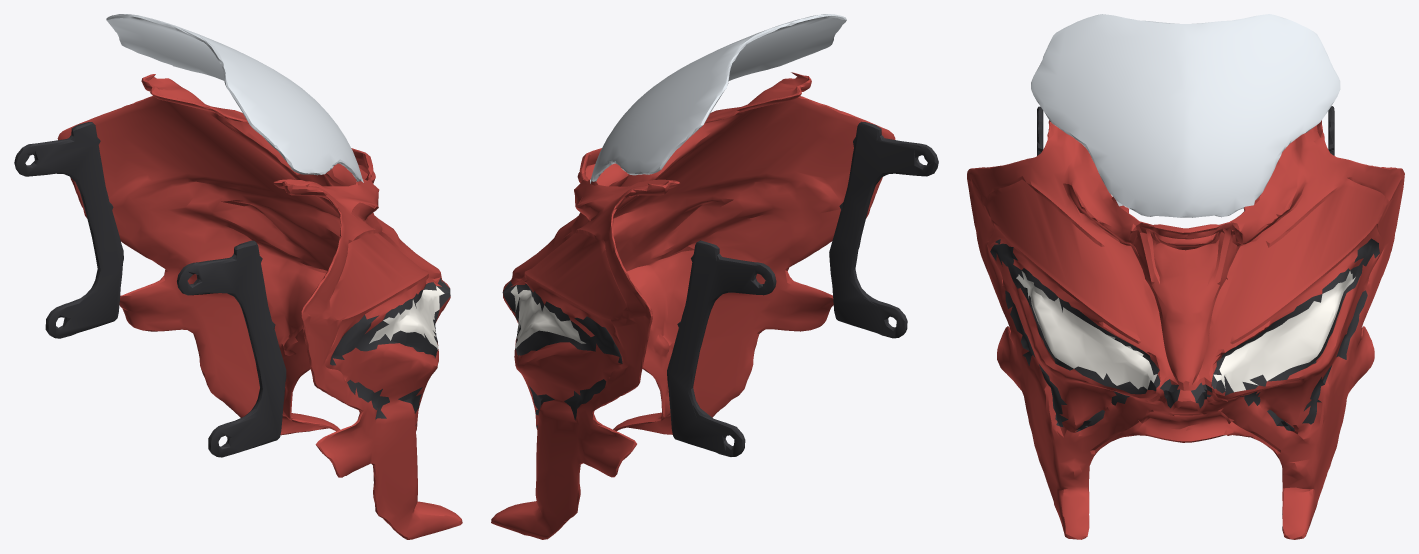
File: naked_2_lod1.glb
3 renders of one model, left to right at view 1: azimuth 30°, elevation 25°; view 2: azimuth 150°, elevation 25°; view 3: azimuth 270°, elevation 25°, orthographic. The views are drawn at different scales.
Visible parts, largest first — view 1: naked_2_lod1; view 2: naked_2_lod1; view 3: naked_2_lod1.
Boxes of the visible parts, <box> form: naked_2_lod1: <box>14,14,462,539</box>; naked_2_lod1: <box>491,14,938,539</box>; naked_2_lod1: <box>967,14,1404,539</box>.
Bounding box in the file's own units: 0.3457 × 0.4534 × 0.4165.
